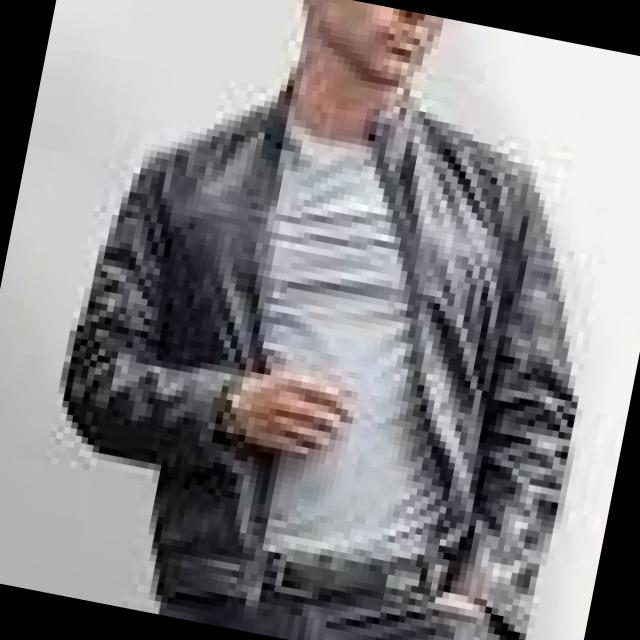Jacket: (19, 44, 626, 640)
